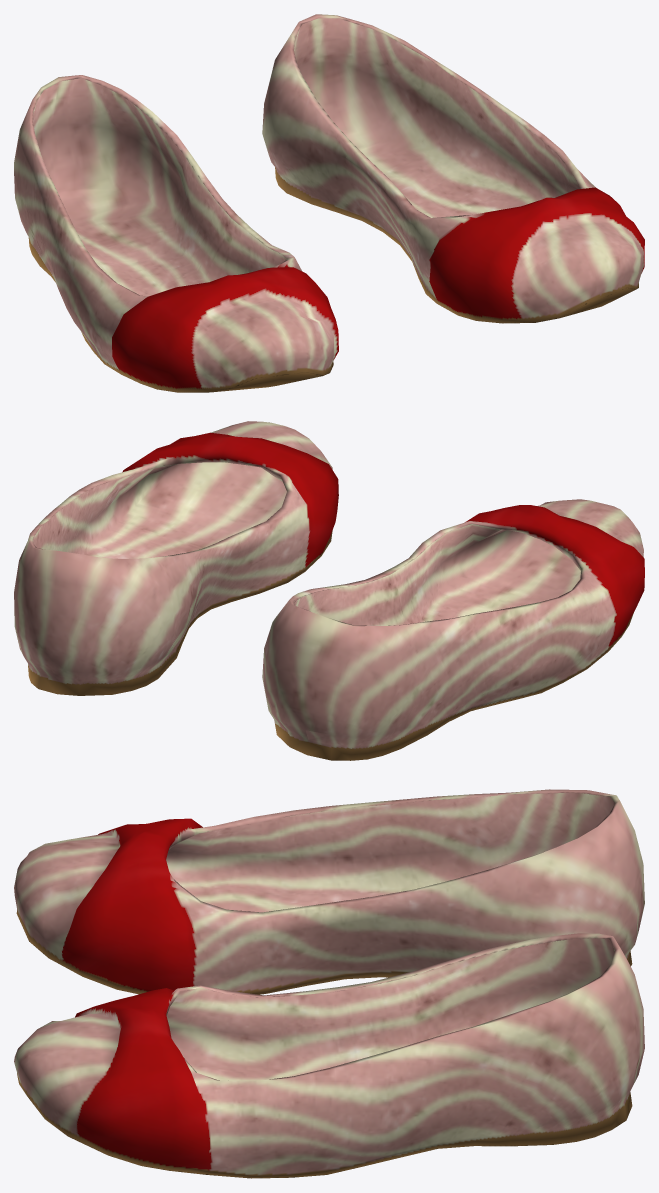
File: shoes_1.obj
3 views of the same model, one above another, from view 1: azimuth 30°, elevation 25°; view 2: azimuth 150°, elevation 25°; view 3: azimuth 270°, elevation 25° (orthographic). The views are drawn at different scales.
Visible parts, largest first — view 1: cloth_3:Shoes; view 2: cloth_3:Shoes; view 3: cloth_3:Shoes.
Part boxes in pixels (<box>): cloth_3:Shoes: <box>14,14,644,392</box>; cloth_3:Shoes: <box>14,421,644,760</box>; cloth_3:Shoes: <box>14,789,644,1178</box>.
Bounding box in the file's own units: 30.41 × 8.43 × 28.1.
1 material, 1 textured.
